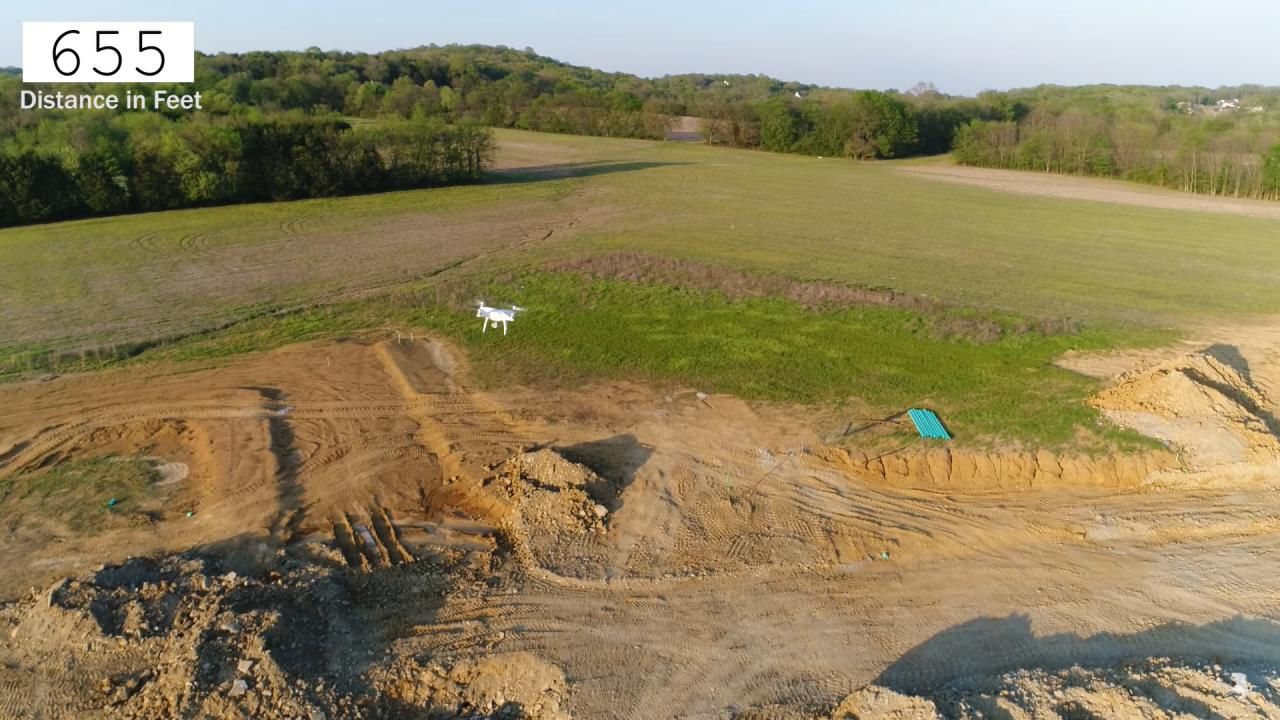Drone: (464, 293, 533, 343)
